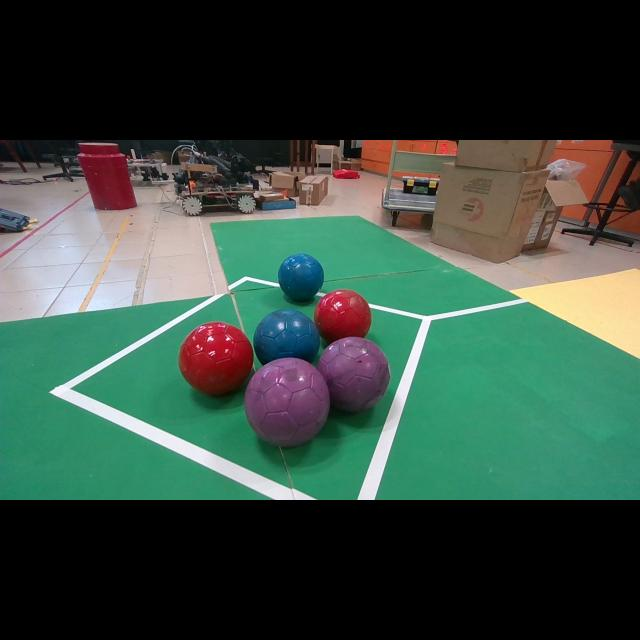B: (254, 309, 320, 365), (278, 254, 324, 301)
P: (244, 358, 330, 446), (318, 336, 390, 412)
R: (179, 321, 254, 395), (315, 289, 371, 343)
